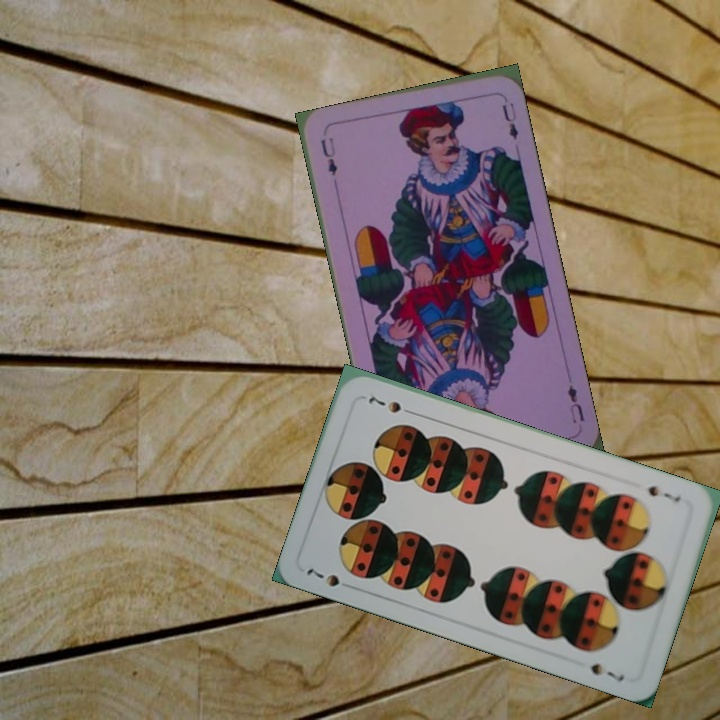EU: (316, 133, 340, 179), (564, 381, 587, 426)
S7: (302, 564, 358, 592), (643, 481, 684, 505)
